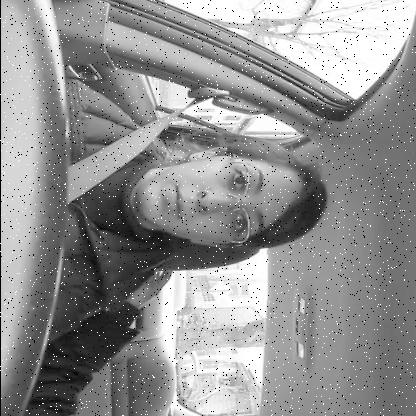seatbelt: (67, 82, 338, 258)
